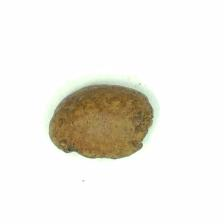NG: (133, 93, 154, 150), (61, 141, 118, 161)
